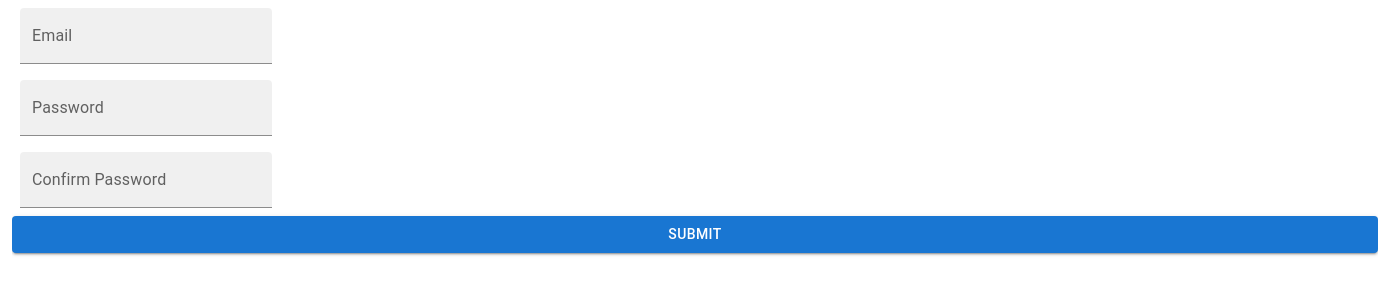
Scenario: Sign up form tests › Sign up form error handles tests › should show error if password is less than 5 characters
Expected: the text "password must be greater than 5 charaters" is not shown
Type "hello@email.com" into the field labelled "Email".
click(146, 36); type("hello@email.com")  # box x1=20 y1=8 x2=272 y2=64
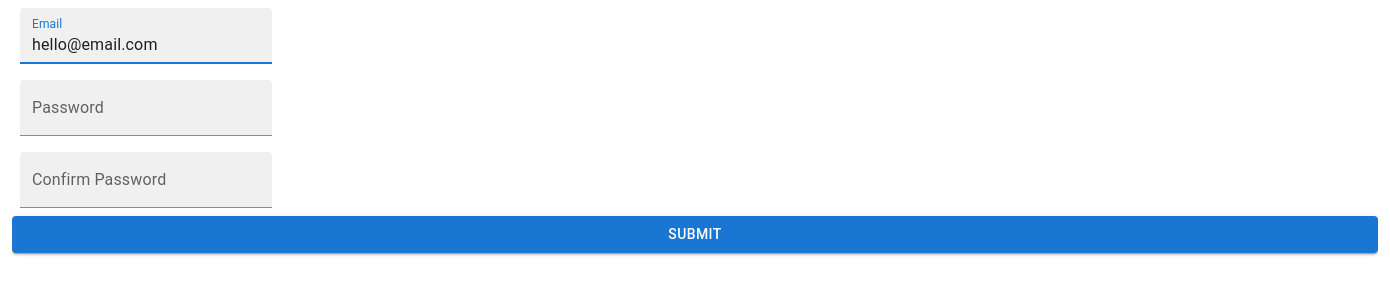
Type "pass" into the password field labelled "Password".
click(146, 108); type("pass")  # box x1=20 y1=80 x2=272 y2=136
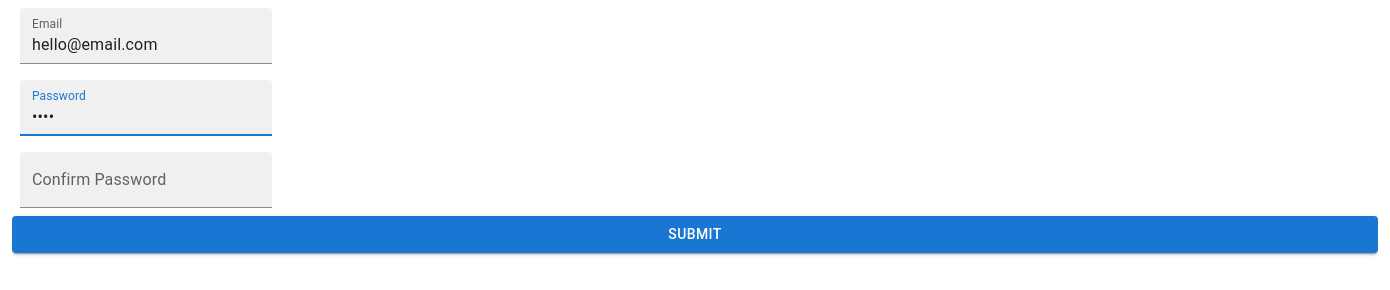
Click the button "Submit".
click(695, 234)  # box x1=12 y1=216 x2=1378 y2=252
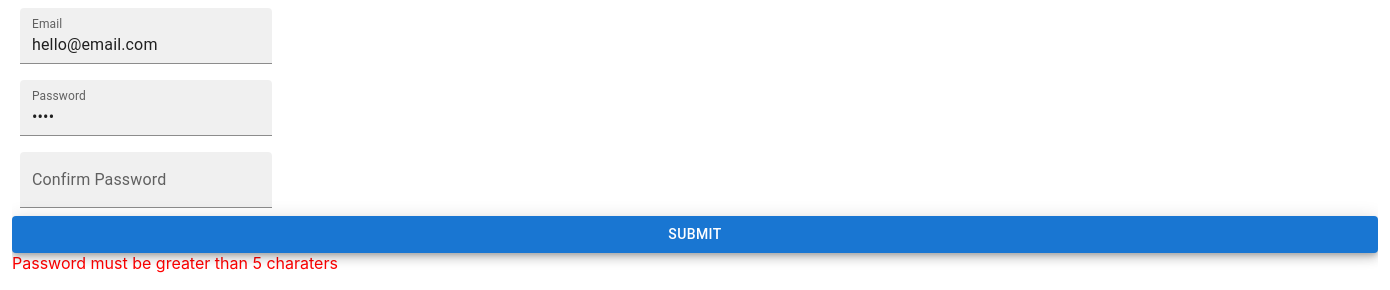
Expected: the text "Password must be greater than 5 charaters" is shown, x1=12 y1=252 x2=338 y2=272
